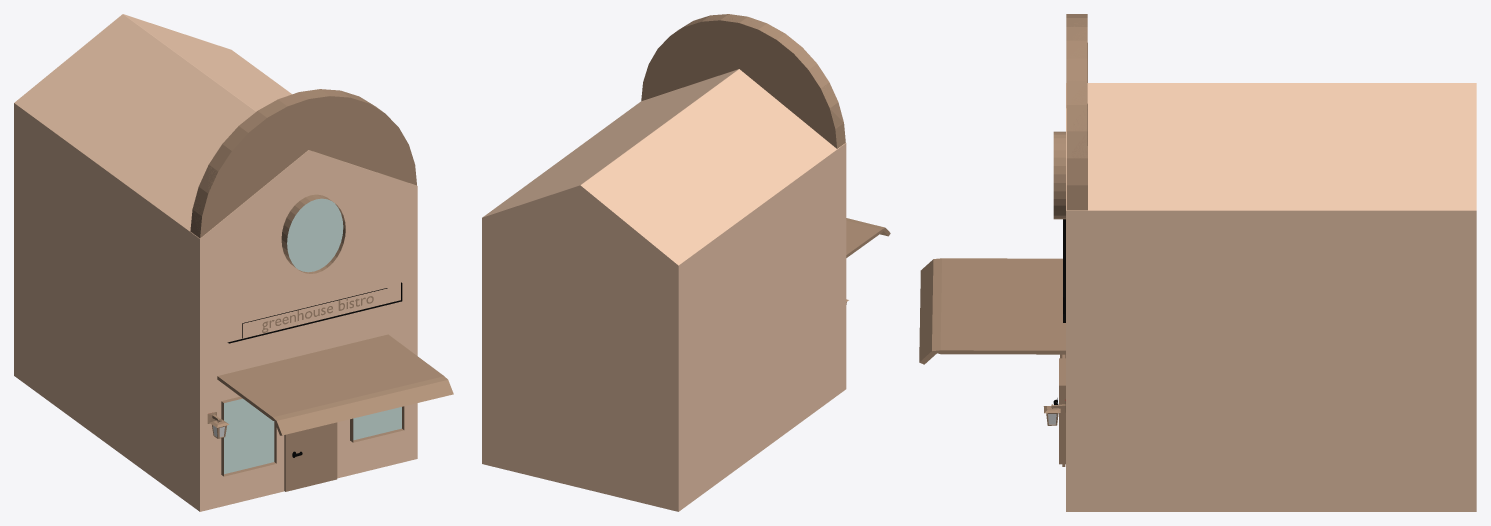
Rendered from greenhousebistro.fbx.
The picture shows the model from 3 angles, left to right: view 1: azimuth 30°, elevation 25°; view 2: azimuth 150°, elevation 25°; view 3: azimuth 270°, elevation 25°; orthographic projection. The views are drawn at different scales.
Parts seen in each view (by area): view 1: Cube, Circle, Plane.004, Cylinder.004, Plane.003, Plane.005, Plane.002, Cylinder.002, Plane.011, Text, Plane; view 2: Cube, Circle, Plane.004; view 3: Cube, Plane.004, Circle, Cylinder.002, Plane.001.
Part boxes in pixels (x1,y1,x2,y2): Cube: [14, 14, 417, 511]; Circle: [190, 89, 416, 238]; Plane.004: [217, 334, 453, 435]; Cylinder.004: [287, 198, 343, 272]; Plane.003: [224, 398, 274, 474]; Plane.005: [284, 422, 337, 491]; Plane.002: [353, 407, 401, 440]; Cylinder.002: [281, 194, 345, 273]; Plane.011: [227, 282, 402, 343]; Text: [262, 296, 373, 332]; Plane: [221, 396, 276, 476]; Cube: [482, 69, 846, 511]; Circle: [641, 14, 845, 148]; Plane.004: [846, 218, 890, 257]; Cube: [1066, 83, 1476, 511]; Plane.004: [919, 258, 1065, 364]; Circle: [1066, 14, 1087, 210]; Cylinder.002: [1053, 131, 1065, 219]; Plane.001: [1059, 358, 1065, 464].
Bounding box in the file's own units: 505 × 855 × 1012.
